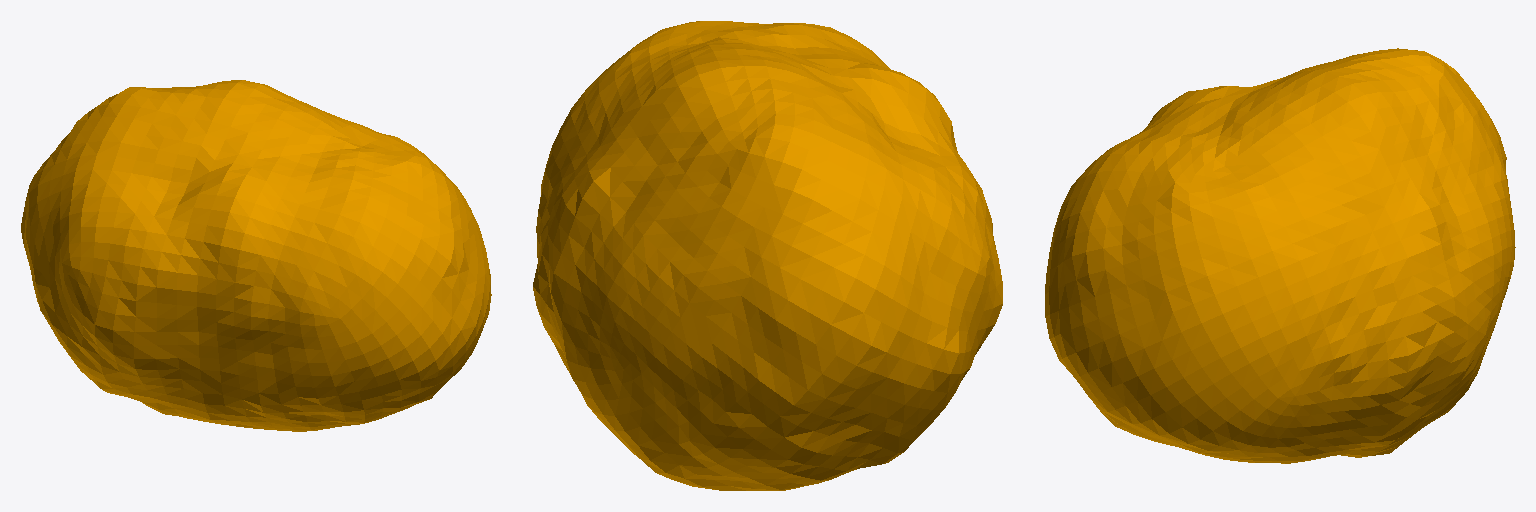
robot.urdf — rock:
<?xml version="1.0" ?>
<robot name="rock">
  <link name="rock">
    <inertial>
      <mass value="0.25"/>
      <origin rpy="0 0 0" xyz="0 0 0"/>
      <inertia ixx="0.00025" ixy="0" ixz="0" iyy="0.00025" iyz="0" izz="0.00025"/>
    </inertial>
    <collision name="rock_collision">
      <origin rpy="0 0 0" xyz="0 0 0"/>
      <geometry>
        <mesh filename="package://rocks/collision/12.stl" scale="1 1 1"/>
      </geometry>
    </collision>
    <visual name="rock_visual">
      <origin rpy="0 0 0" xyz="0 0 0"/>
      <geometry>
        <mesh filename="package://rocks/visual/12.dae" scale="1 1 1"/>
      </geometry>
    </visual>
  </link>
</robot>

--- Facts derived from the render (not from the file) ---
3 views of the same robot in one strip: view 1: azimuth 30°, elevation 25°; view 2: azimuth 150°, elevation 25°; view 3: azimuth 270°, elevation 25° (orthographic).
Model rock with 1 links and 0 joints (none), rooted at rock, posed every joint at zero.
Visible links, largest first — view 1: rock; view 2: rock; view 3: rock.
Boxes of the visible links, x1,y1,x2,y2 form: rock: (21,80,491,431); rock: (533,21,1002,490); rock: (1045,48,1515,463).
Size in the robot's own frame: 0.0814 by 0.0802 by 0.0685 metres.
Meshes: 1 distinct files referenced, 1 mesh visuals loaded (1 Collada DAE).